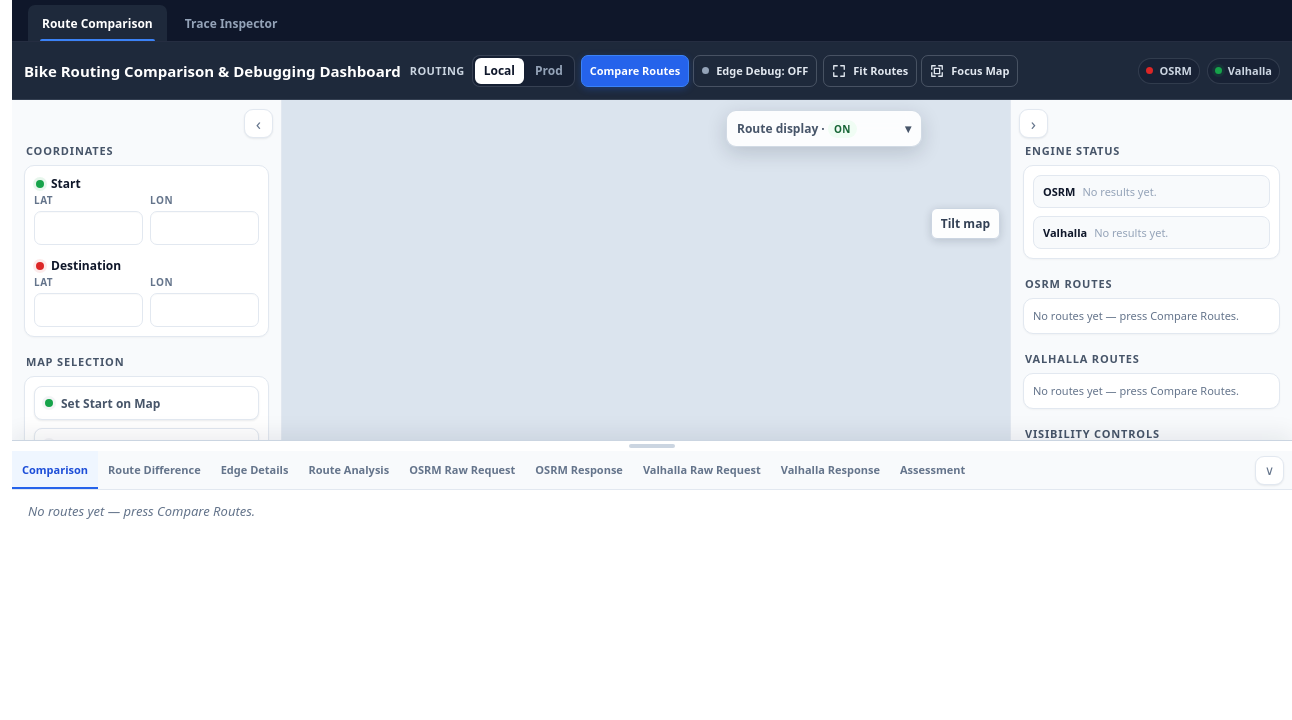
Test case: App layout shell › stays fully usable when an engine reports unreachable (Req 16.5)
Expected: the element titled "OSRM: unreachable" is shown, [1138,58,1200,84]
Expected: the element with test id "map-view" is shown, [282,100,1010,440]
What coordinates should you click on to do the following:
click the tab "Assessment"
I would click on:
 (933, 470)
Its box is [890,451,975,489].
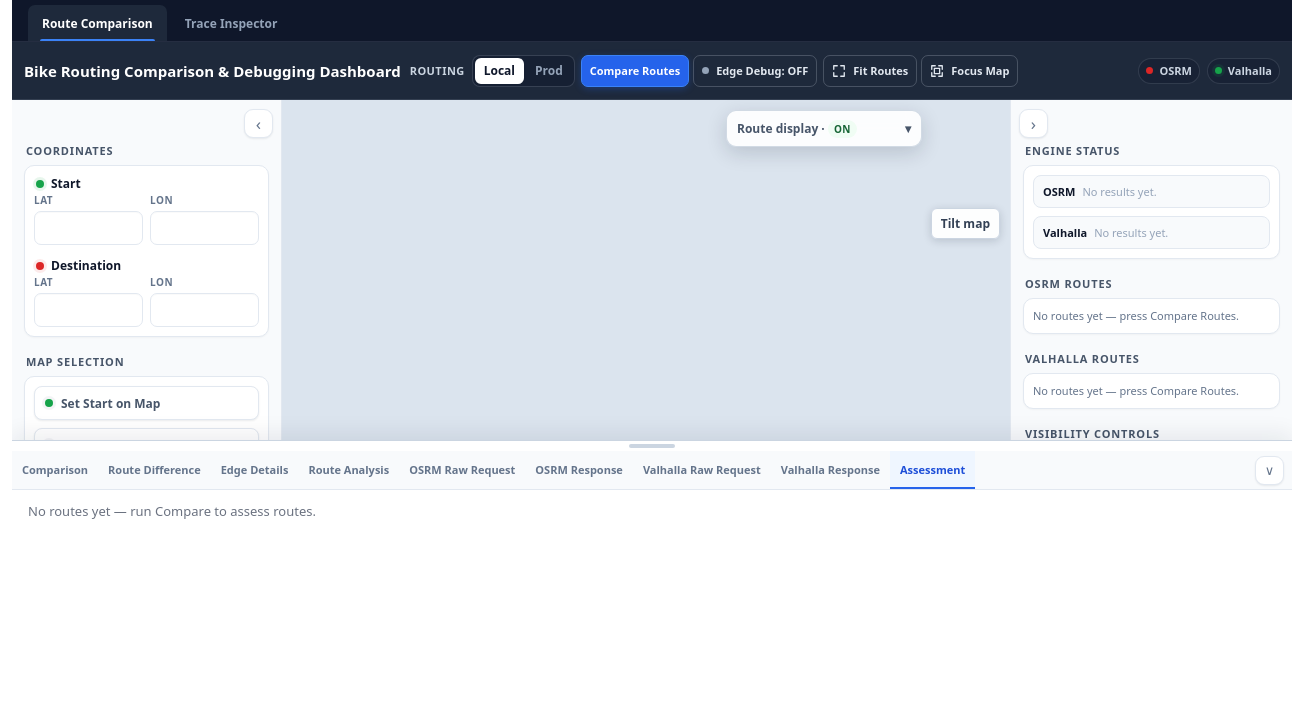
Result: the panel with test id "bottom-tab-panel" shows "run Compare to assess routes" at [28,502,316,520]
